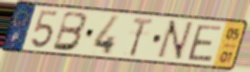4: (91, 14, 123, 56)
5: (30, 9, 61, 50)
B: (50, 10, 90, 53)
E: (186, 23, 224, 64)
N: (153, 19, 196, 62)
T: (127, 16, 156, 59)
